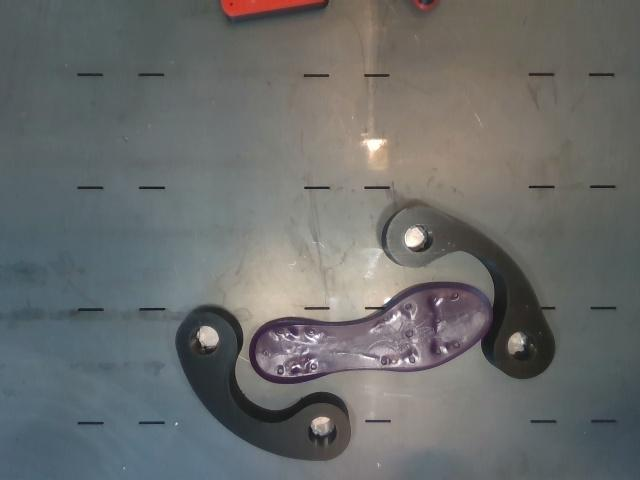shoes: (250, 283, 492, 383)
